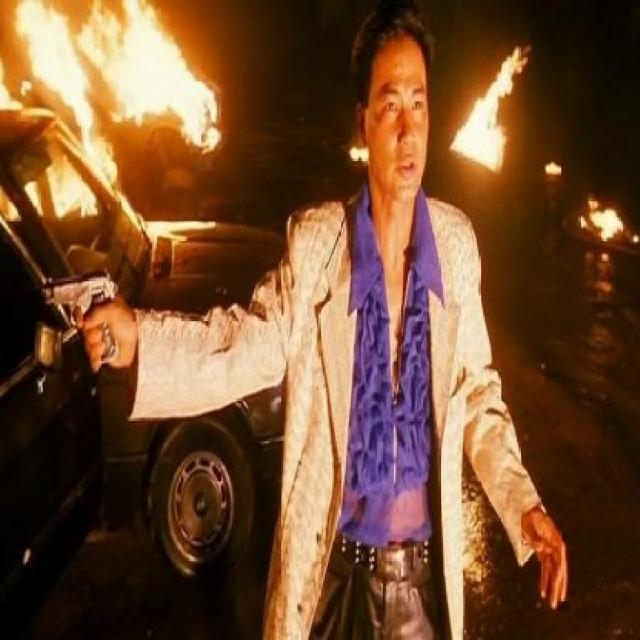gun: (29, 255, 126, 369)
